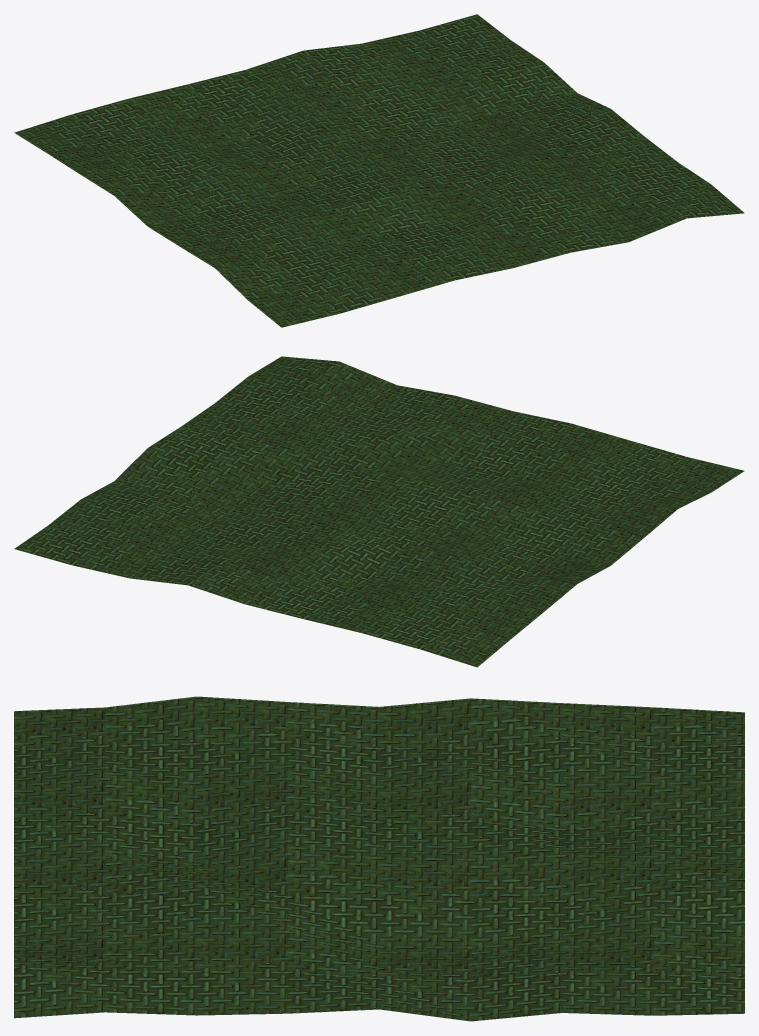
Rendered from floor.obj.
3 renders of one model, top to bottom at view 1: azimuth 30°, elevation 25°; view 2: azimuth 150°, elevation 25°; view 3: azimuth 270°, elevation 25°, orthographic. The views are drawn at different scales.
Visible parts, largest first — view 1: Plane; view 2: Plane; view 3: Plane.
Part boxes in pixels (left/top/right/bottom): Plane: left=14, top=14, right=744, bottom=327; Plane: left=14, top=356, right=744, bottom=667; Plane: left=14, top=696, right=744, bottom=1021.
Bounding box in the file's own units: 16 × 0.4651 × 16.
Materials: 1 (1 with a texture image).
